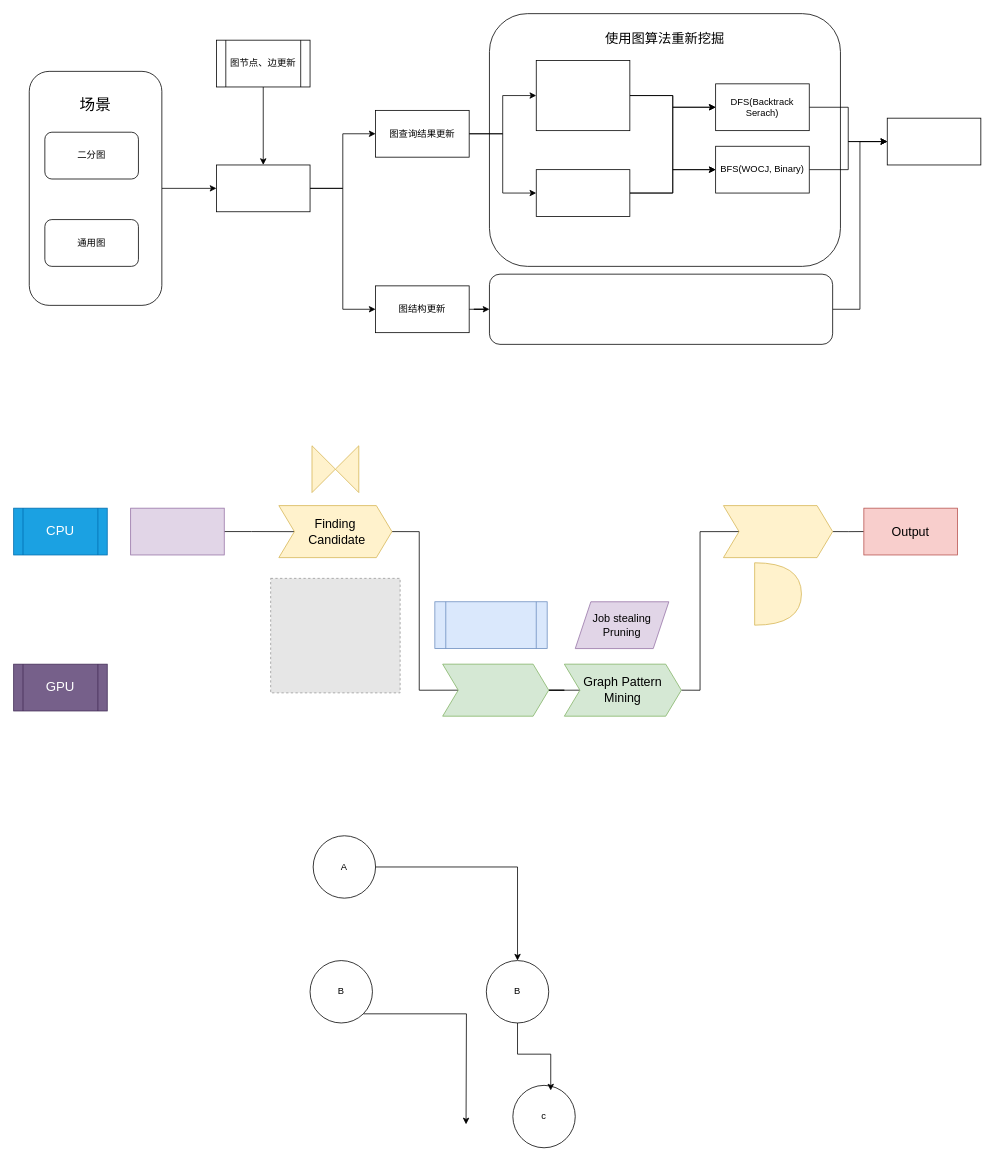
Some shapes in this 994 by 1161 pixel diagram are drawn without their labels. Grey dashed boxes stand in for pictures. The shapes that lost their labels are listed below. From the top down, each one's centre as x and y in pixels, then its label:
At point 582,95: "GPM: Triangle Counting Biclique k-clique".
At point 933,141: "回传结果".
At point 263,188: "找到可能改变的图结果".
At point 582,192: "Subgraph Matching".
At point 661,308: "GPU 图存储".
At point 177,531: "Batch Update".
At point 778,531: "Aggregation".
At point 777,593: "合并结果".
At point 490,625: "动态图数据结构".
At point 495,689: "Update-Based Exploration".
